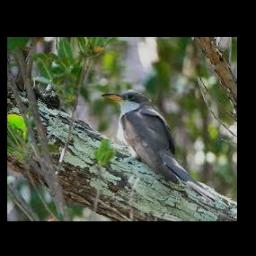Cuckoo: (102, 89, 207, 191)
